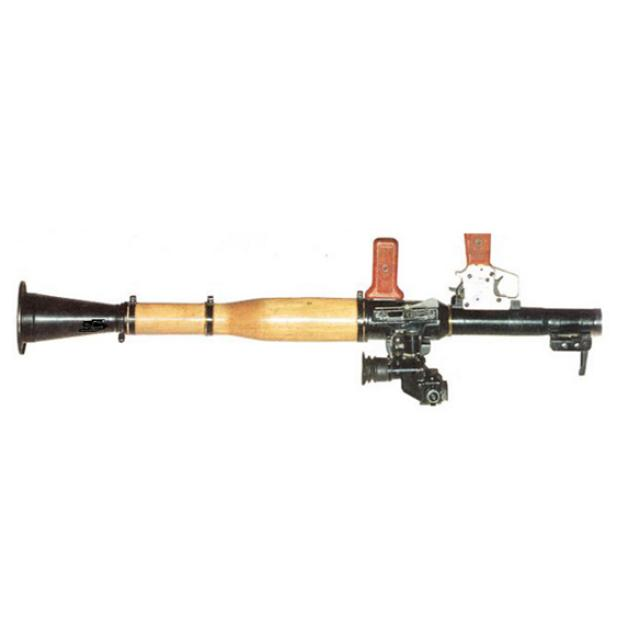Gun: (4, 228, 626, 426)
